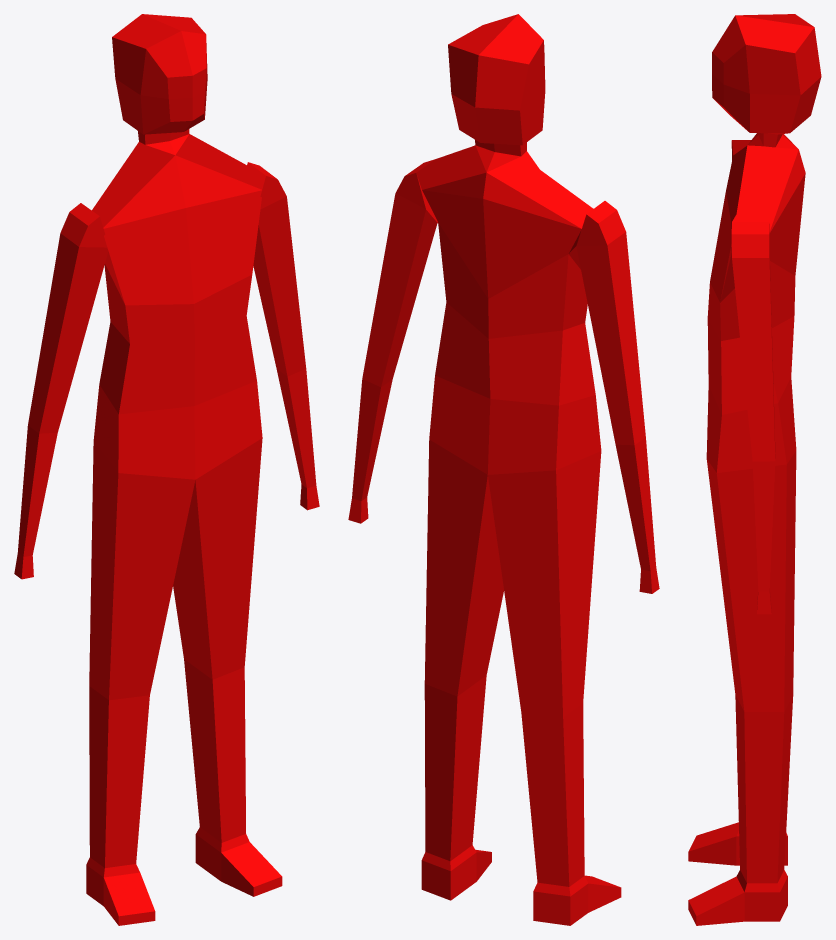
The model's file is red_hooman.fbx.
3 renders of one model, left to right at view 1: azimuth 30°, elevation 25°; view 2: azimuth 150°, elevation 25°; view 3: azimuth 270°, elevation 25°, orthographic.
Visible parts, largest first — view 1: Cube; view 2: Cube; view 3: Cube.
Boxes of the visible parts, bbox=[...] form: Cube: bbox=[14, 14, 319, 925]; Cube: bbox=[348, 14, 659, 925]; Cube: bbox=[688, 14, 821, 925].
Size of the model in its own units: 221 by 609 by 84.37.
